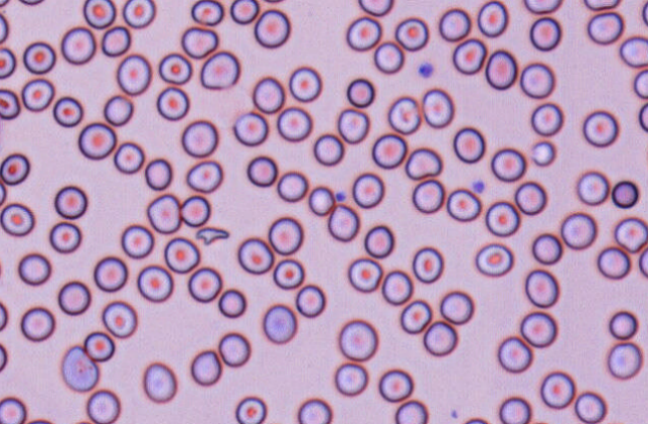PLT: (418, 62, 435, 78), (472, 180, 485, 192), (334, 191, 346, 203)
RBC: (60, 345, 99, 392), (337, 319, 378, 361), (200, 50, 240, 89), (116, 53, 152, 95), (77, 122, 116, 160), (253, 8, 290, 48), (142, 361, 177, 403), (146, 193, 181, 234), (262, 303, 297, 344), (136, 264, 173, 302), (560, 211, 597, 249), (181, 119, 218, 157), (582, 109, 619, 147), (267, 216, 303, 255), (539, 370, 575, 409), (60, 26, 96, 65), (163, 236, 200, 273), (237, 237, 274, 274), (606, 341, 642, 379), (519, 311, 557, 347), (101, 300, 137, 338), (474, 242, 513, 277), (484, 49, 517, 90), (497, 335, 532, 373), (524, 269, 559, 307), (421, 88, 454, 128), (422, 320, 458, 356), (371, 133, 407, 169), (484, 200, 520, 236), (276, 106, 312, 142), (519, 62, 555, 98), (93, 255, 128, 292), (185, 159, 223, 193), (251, 75, 285, 113), (187, 266, 222, 302), (613, 216, 648, 252), (20, 305, 55, 341), (490, 147, 526, 182), (232, 111, 268, 146), (345, 16, 381, 51), (288, 65, 322, 102), (180, 25, 218, 58), (404, 147, 442, 180), (387, 96, 420, 134), (586, 11, 624, 44), (347, 257, 382, 292), (452, 38, 486, 74), (452, 126, 485, 163), (327, 203, 359, 241), (120, 224, 154, 259), (378, 368, 413, 402), (0, 202, 35, 236), (86, 389, 120, 424), (439, 290, 474, 324), (57, 280, 91, 315), (575, 170, 609, 205), (394, 16, 428, 51), (351, 172, 384, 208), (218, 331, 251, 367), (190, 349, 222, 386), (411, 246, 443, 283), (476, 0, 508, 37), (334, 362, 368, 396), (53, 185, 87, 219), (399, 299, 432, 334), (411, 178, 444, 213), (446, 188, 481, 221), (381, 269, 413, 305), (17, 252, 51, 285), (596, 246, 630, 279), (156, 86, 189, 120), (530, 102, 563, 136), (438, 7, 471, 41), (514, 180, 546, 215), (337, 108, 369, 143), (529, 16, 561, 51), (574, 390, 607, 423), (22, 41, 55, 74), (21, 78, 54, 111), (158, 52, 192, 84), (363, 224, 394, 258), (373, 40, 404, 74), (295, 283, 325, 318), (276, 170, 308, 202), (49, 221, 81, 253), (113, 141, 144, 174), (531, 232, 562, 265), (313, 133, 344, 166), (272, 258, 304, 289), (83, 331, 115, 362), (246, 155, 277, 187), (103, 94, 134, 126), (0, 152, 30, 185), (82, 0, 116, 29), (52, 96, 83, 127), (180, 195, 210, 227), (101, 25, 131, 57), (234, 395, 266, 424), (619, 35, 648, 67), (144, 157, 172, 190), (498, 396, 531, 424), (122, 0, 155, 28), (297, 398, 332, 424), (346, 77, 375, 108), (217, 288, 246, 318), (608, 310, 638, 339), (190, 0, 223, 26), (394, 399, 428, 424), (308, 185, 335, 216), (611, 179, 639, 208), (0, 396, 26, 424), (229, 0, 259, 24), (530, 140, 556, 166), (0, 88, 20, 119), (357, 0, 393, 16), (523, 0, 562, 14), (0, 47, 16, 79), (633, 68, 648, 99), (583, 0, 621, 10), (638, 244, 648, 278), (638, 102, 648, 132), (0, 12, 8, 44), (0, 342, 8, 372), (0, 301, 8, 331), (460, 417, 491, 424), (24, 418, 55, 424), (0, 179, 6, 206), (642, 0, 648, 26), (18, 0, 45, 5), (525, 420, 552, 424), (70, 420, 97, 424), (0, 116, 3, 150), (645, 139, 648, 169), (600, 421, 630, 424), (0, 254, 3, 284), (260, 421, 288, 424), (260, 0, 287, 3), (0, 0, 10, 7)
Schistocyte: (195, 227, 231, 246)
